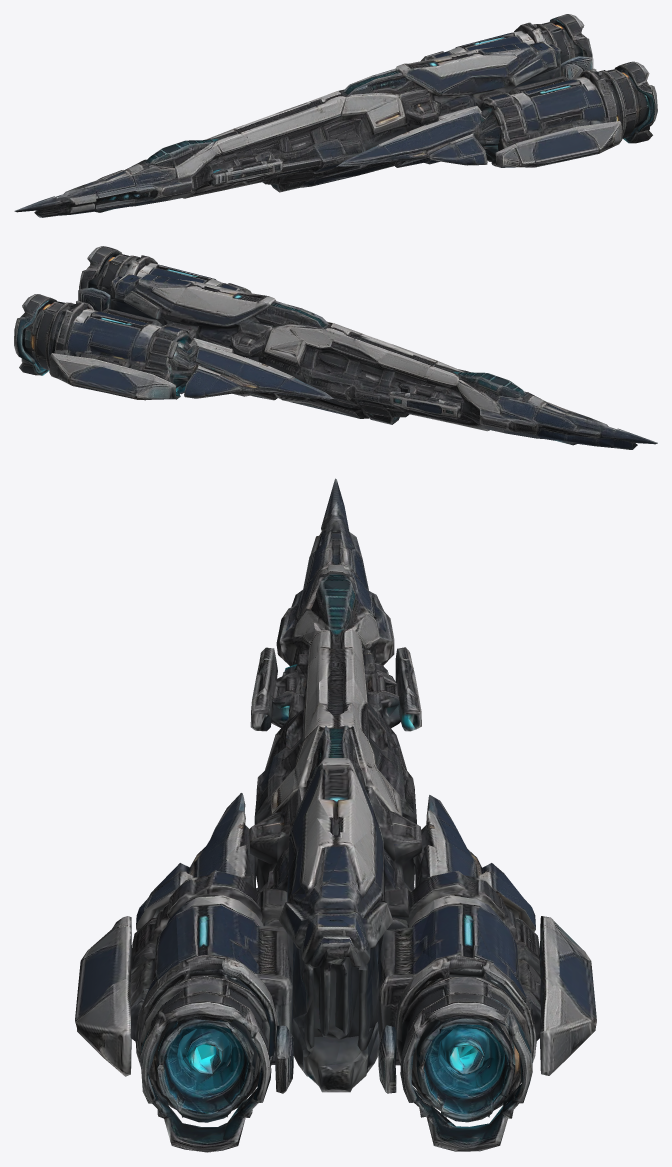
The model's file is corsair.glb.
3 views of the same model, one above another, from view 1: azimuth 30°, elevation 25°; view 2: azimuth 150°, elevation 25°; view 3: azimuth 270°, elevation 25° (orthographic). The views are drawn at different scales.
Bounding box in the file's own units: 1.9 × 0.3016 × 0.7188.
Materials: 1 (1 with a texture image).
